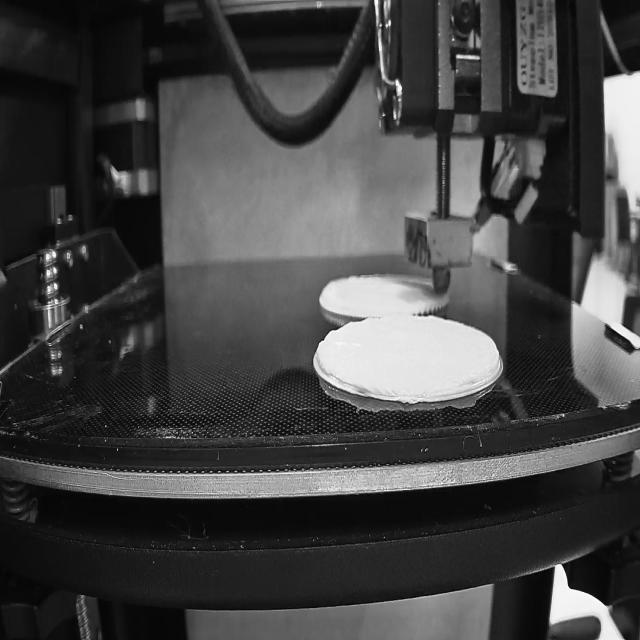over_extrusion: (315, 338, 332, 380)
